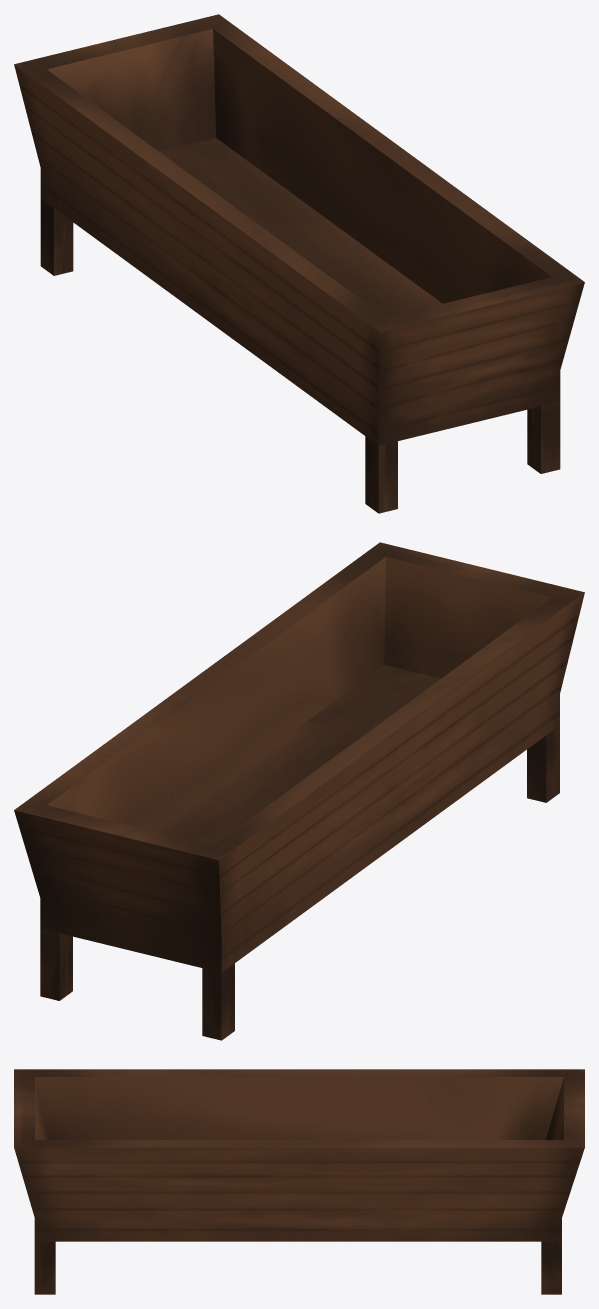
Rendered from feeding_tray.fbx.
3 renders of one model, top to bottom at view 1: azimuth 30°, elevation 25°; view 2: azimuth 150°, elevation 25°; view 3: azimuth 270°, elevation 25°, orthographic. The views are drawn at different scales.
Visible parts, largest first — view 1: Cube; view 2: Cube; view 3: Cube.
Part boxes in pixels (x1=…): Cube: x1=14, y1=14, x2=584, y2=513; Cube: x1=14, y1=542, x2=584, y2=1040; Cube: x1=14, y1=1069, x2=584, y2=1294.
Size of the model in its own units: 96.95 by 87.72 by 300.
